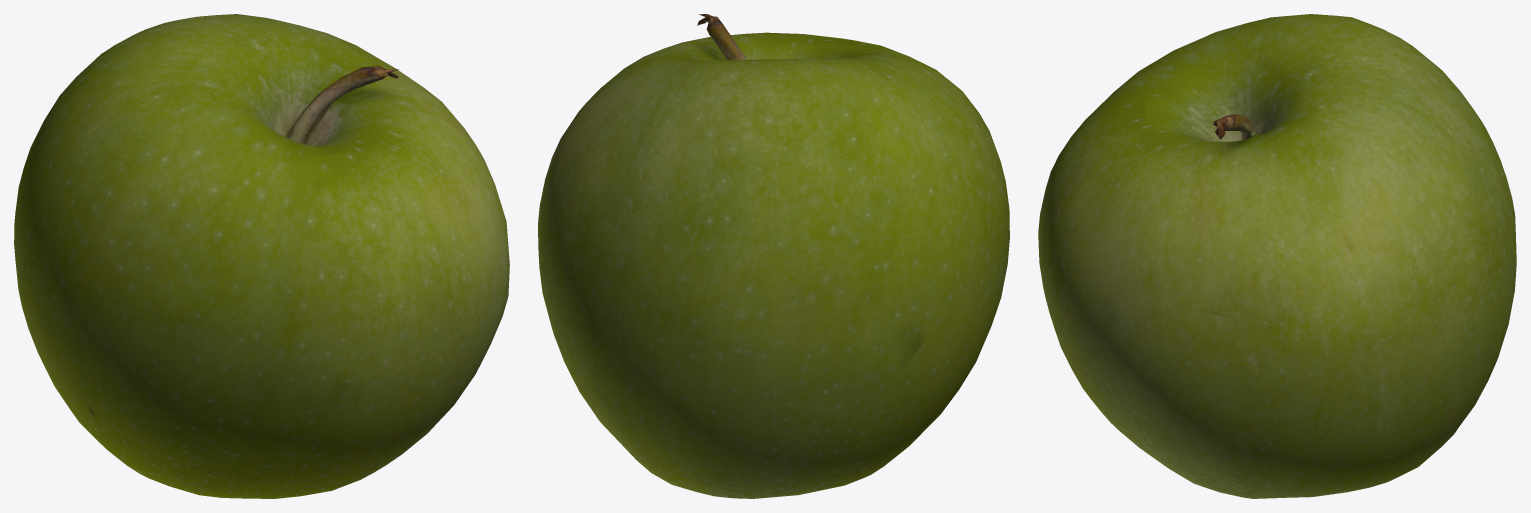
Rendered from green_apple.glb.
3 renders of one model, left to right at view 1: azimuth 30°, elevation 25°; view 2: azimuth 150°, elevation 25°; view 3: azimuth 270°, elevation 25°, orthographic. The views are drawn at different scales.
Visible parts, largest first — view 1: tefadiqla_LOD0_TIER2_000; view 2: tefadiqla_LOD0_TIER2_000; view 3: tefadiqla_LOD0_TIER2_000.
Part boxes in pixels (left/top/right/bottom): tefadiqla_LOD0_TIER2_000: left=14, top=14, right=509, bottom=498; tefadiqla_LOD0_TIER2_000: left=538, top=14, right=1009, bottom=498; tefadiqla_LOD0_TIER2_000: left=1038, top=14, right=1516, bottom=498.
Bounding box in the file's own units: 0.0883 × 0.0852 × 0.0901.
Materials: 1 (1 with a texture image).
